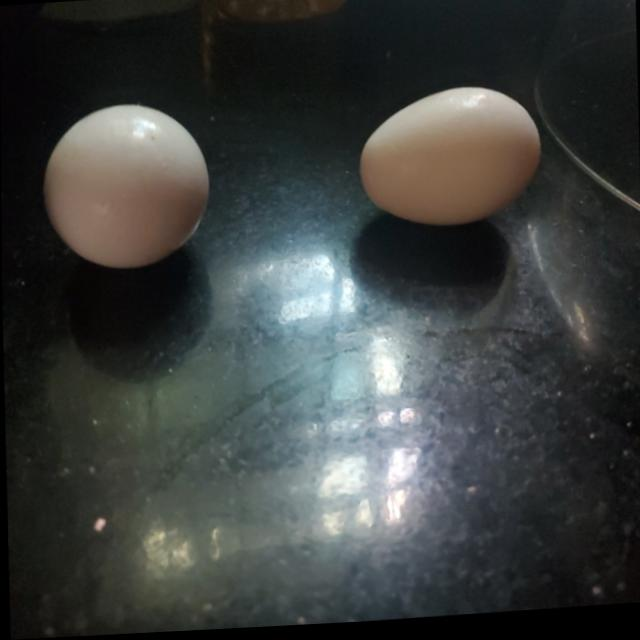egg: (40, 96, 210, 272), (355, 83, 541, 234)
